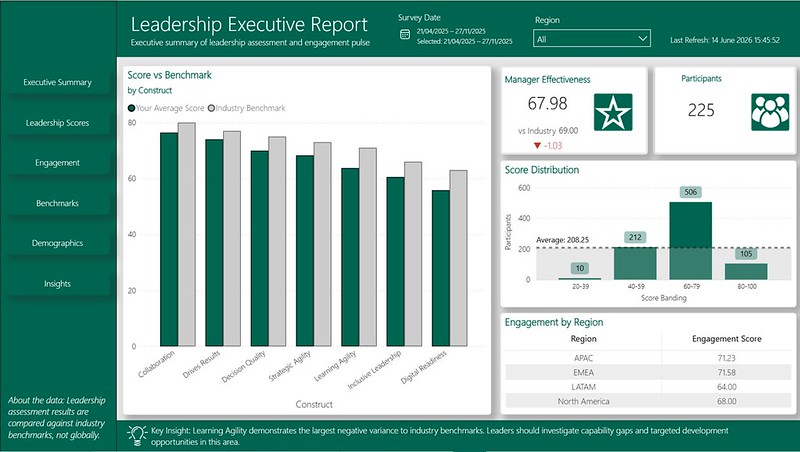

This screenshot's page, from the dashboard's own definition file:
{"tool":"powerbi","page":{"name":"Executive Summary","canvas":[1280,720],"ordinal":0},"visuals":[{"type":"shape","box":[798.9,103.7,235.9,141.9],"z":0},{"type":"shape","box":[1042.8,103.7,228.8,141.9],"z":1000},{"type":"shape","box":[0,90.3,186.2,632.3],"z":2000},{"type":"shape","box":[186.2,0,1093.8,90.3],"z":3000},{"type":"image","box":[0,0,186.1,90.7],"z":4000},{"type":"slicer","fields":{"Values":["DimParticipants.Region"]},"box":[841.5,16,207.5,81.6],"z":5000},{"type":"textbox","box":[204,9.7,541.8,93.9],"z":6000},{"type":"card","fields":{"Values":["Benchmarks.Manager Effectiveness Benchmark"]},"box":[876.5,191.6,61.5,35.3],"z":7000},{"type":"card","title":"Manager Effectiveness","fields":{"Values":["EngagementPulse.Manager Effectiveness"]},"box":[799.9,115,149.3,78.7],"z":8000},{"type":"shape","box":[186.2,669.7,1093.8,50.7],"z":10000},{"type":"slicer","fields":{"Values":["EngagementPulse.SurveyDate"]},"box":[623.3,11.5,219,78.9],"z":11000},{"type":"card","title":"Participants","fields":{"Values":["Count(DimParticipants.ParticipantID)"]},"box":[1049,115.3,141,101.1],"z":12000},{"type":"image","box":[1199.6,148.7,60.6,59.5],"z":13000},{"type":"image","box":[948.4,148.7,61.7,59.5],"z":15000},{"type":"textbox","box":[822.1,192.7,76.7,38.3],"z":16000},{"type":"clusteredColumnChart","title":"Score Distribution","fields":{"Category":["AssessmentScores_Wide.Score Banding","DimParticipants.Function"],"Y":["CountNonNull(AssessmentScores_Wide.ParticipantID)"]},"box":[798.2,255.1,473.3,234.3],"z":17000},{"type":"tableEx","title":"Engagement by Region","fields":{"Values":["DimParticipants.Region","DimParticipants.Engagement Score"]},"box":[798.2,498.8,473.3,162.5],"z":18000},{"type":"clusteredColumnChart","title":"Score vs Benchmark","fields":{"Category":["DimConstruct.Construct"],"Y":["Avg(FactAssessmentScores.Score)","DimBenchmarks.Industry Benchmark"]},"box":[195.5,103.9,588.5,557.3],"z":19000},{"type":"textbox","box":[7.6,622.7,167.3,97.1],"z":20000},{"type":"card","fields":{"Values":["Last Refresh Date.Last Refresh Date"]},"box":[1034.4,43.4,245.6,44.3],"z":21000},{"type":"actionButton","title":"Exective Summary","box":[7.6,111.2,167.3,37.8],"z":22000},{"type":"actionButton","title":"Exective Summary","box":[7.6,175.3,167.3,37.8],"z":23000},{"type":"actionButton","title":"Exective Summary","box":[7.6,303.5,167.3,37.8],"z":24000},{"type":"actionButton","title":"Exective Summary","box":[7.6,239.4,167.3,37.8],"z":25000},{"type":"actionButton","title":"Exective Summary","box":[7.6,367.6,167.3,37.8],"z":26000},{"type":"actionButton","title":"Exective Summary","box":[7.6,431.7,167.3,37.8],"z":27000},{"type":"textbox","box":[236.2,671.6,974.9,48.2],"z":28000},{"type":"image","box":[202.9,676.7,33.5,36.7],"z":29000},{"type":"card","fields":{"Values":["DimBenchmarks.Manager Effectiveness Variance Display"]},"box":[814,215.9,120,35.3],"z":29001}]}

Visuals, with their boxes in screenshot pixels (x1, y1, x2, y2), scaled from the page's 1280x720 canvas onto the 800x452 screenshot:
shape: bbox(499, 65, 647, 154)
shape: bbox(652, 65, 795, 154)
shape: bbox(0, 57, 116, 451)
shape: bbox(116, 0, 799, 57)
image: bbox(0, 0, 116, 57)
slicer - DimParticipants.Region: bbox(526, 10, 656, 61)
textbox: bbox(128, 6, 466, 65)
card - Benchmarks.Manager Effectiveness Benchmark: bbox(548, 120, 586, 142)
"Manager Effectiveness" card: bbox(500, 72, 593, 122)
shape: bbox(116, 420, 799, 451)
slicer - EngagementPulse.SurveyDate: bbox(390, 7, 526, 57)
"Participants" card: bbox(656, 72, 744, 136)
image: bbox(750, 93, 788, 131)
image: bbox(593, 93, 631, 131)
textbox: bbox(514, 121, 562, 145)
"Score Distribution" clusteredColumnChart: bbox(499, 160, 795, 307)
"Engagement by Region" tableEx: bbox(499, 313, 795, 415)
"Score vs Benchmark" clusteredColumnChart: bbox(122, 65, 490, 415)
textbox: bbox(5, 391, 109, 451)
card - Last Refresh Date.Last Refresh Date: bbox(646, 27, 799, 55)
"Exective Summary" actionButton: bbox(5, 70, 109, 94)
"Exective Summary" actionButton: bbox(5, 110, 109, 134)
"Exective Summary" actionButton: bbox(5, 191, 109, 214)
"Exective Summary" actionButton: bbox(5, 150, 109, 174)
"Exective Summary" actionButton: bbox(5, 231, 109, 255)
"Exective Summary" actionButton: bbox(5, 271, 109, 295)
textbox: bbox(148, 422, 757, 451)
image: bbox(127, 425, 148, 448)
card - DimBenchmarks.Manager Effectiveness Variance Display: bbox(509, 136, 584, 158)
